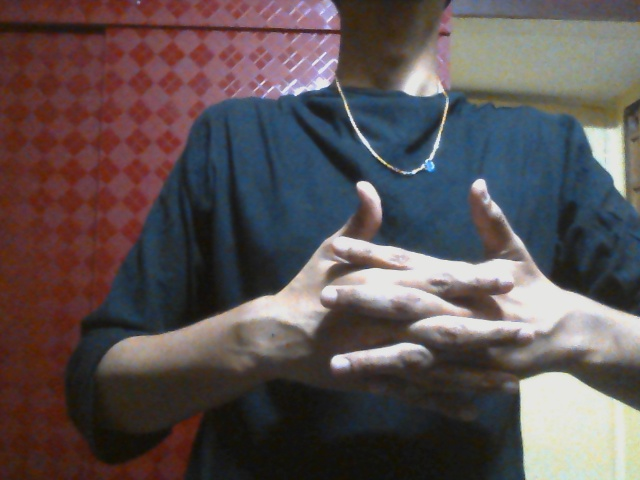W: (283, 177, 557, 424)
